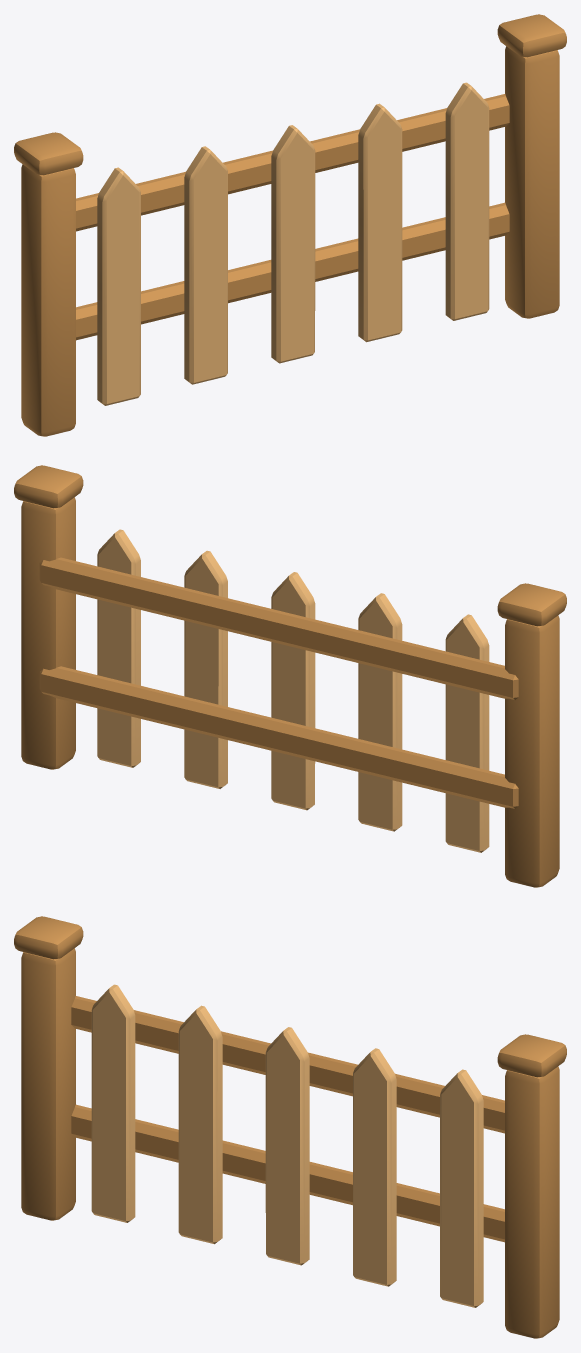
The model's file is fence.glb.
The picture shows the model from 3 angles, top to bottom: view 1: azimuth 30°, elevation 25°; view 2: azimuth 150°, elevation 25°; view 3: azimuth 330°, elevation 25°; orthographic projection.
Visible parts, largest first — view 1: fence_mesh; view 2: fence_mesh; view 3: fence_mesh.
Boxes of the visible parts, x1,y1,x2,y2 form: fence_mesh: (14,14,566,436); fence_mesh: (14,465,566,887); fence_mesh: (14,916,566,1338).
Size of the model in its own units: 2.2 by 1.12 by 0.1992.
1 material, 1 textured.
